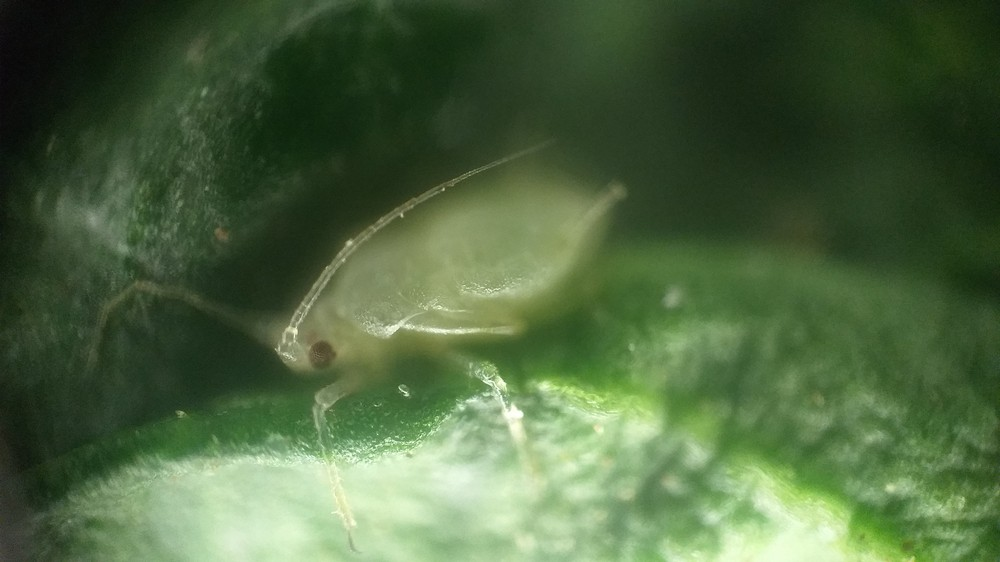Pulgon: (202, 127, 694, 517)
